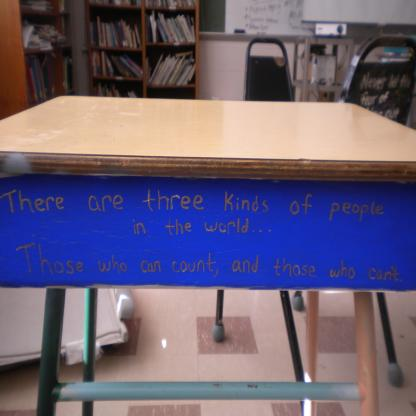book: (24, 56, 63, 111), (147, 7, 196, 46), (147, 51, 196, 85), (91, 19, 140, 51), (90, 52, 146, 78), (93, 82, 141, 100), (142, 0, 197, 9), (63, 53, 74, 93), (148, 52, 163, 78), (86, 0, 140, 5)
